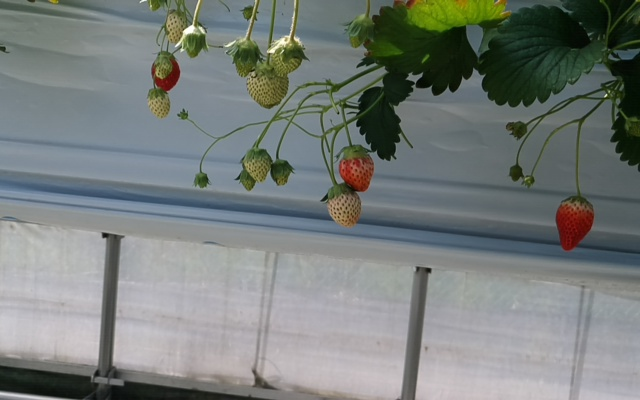GreenStrawberry: (239, 59, 290, 110), (268, 31, 308, 79), (324, 183, 363, 230), (240, 146, 274, 183), (228, 40, 258, 78), (162, 8, 189, 47), (182, 26, 208, 60), (148, 86, 172, 120), (269, 159, 295, 188), (236, 169, 257, 191), (153, 54, 170, 77)
MatureStrawberry: (554, 193, 596, 254), (334, 144, 377, 193), (149, 54, 181, 90)
